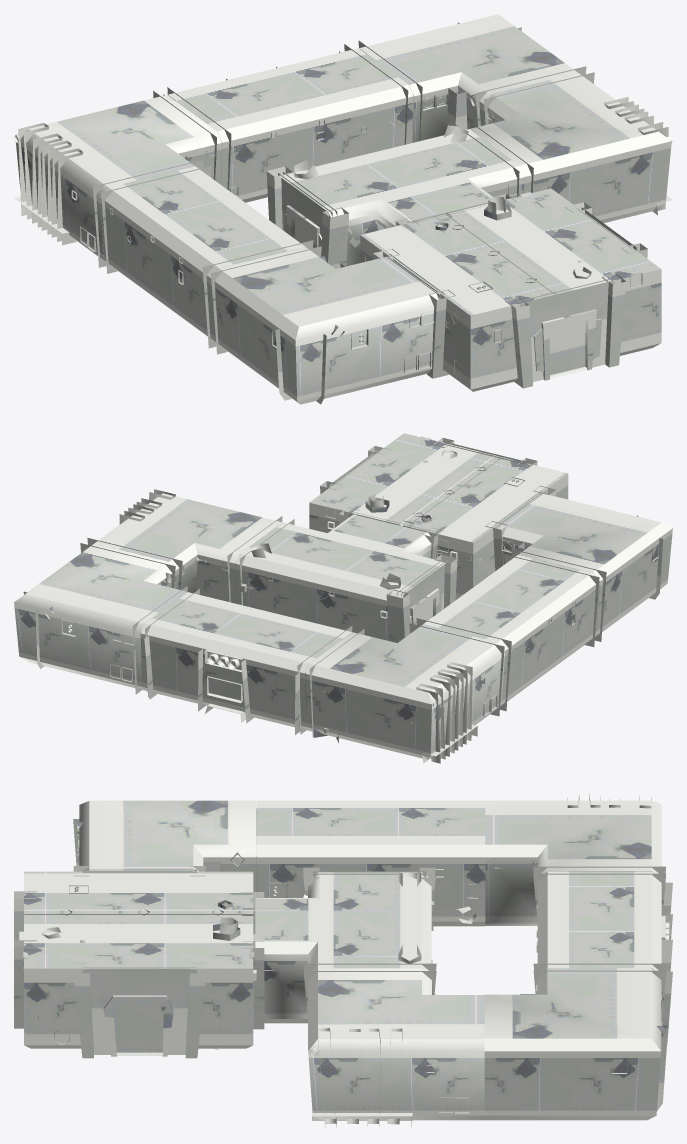
File: Combined_Mesh_root_scene__19_0bed480f__zombies2_diffuse_11_814463c1_c1f257.obj
3 renders of one model, top to bottom at view 1: azimuth 30°, elevation 25°; view 2: azimuth 150°, elevation 25°; view 3: azimuth 270°, elevation 25°, orthographic. The views are drawn at different scales.
Bounding box in the file's own units: 51.83 × 9.64 × 57.53.
Materials: 123 (123 with a texture image).
